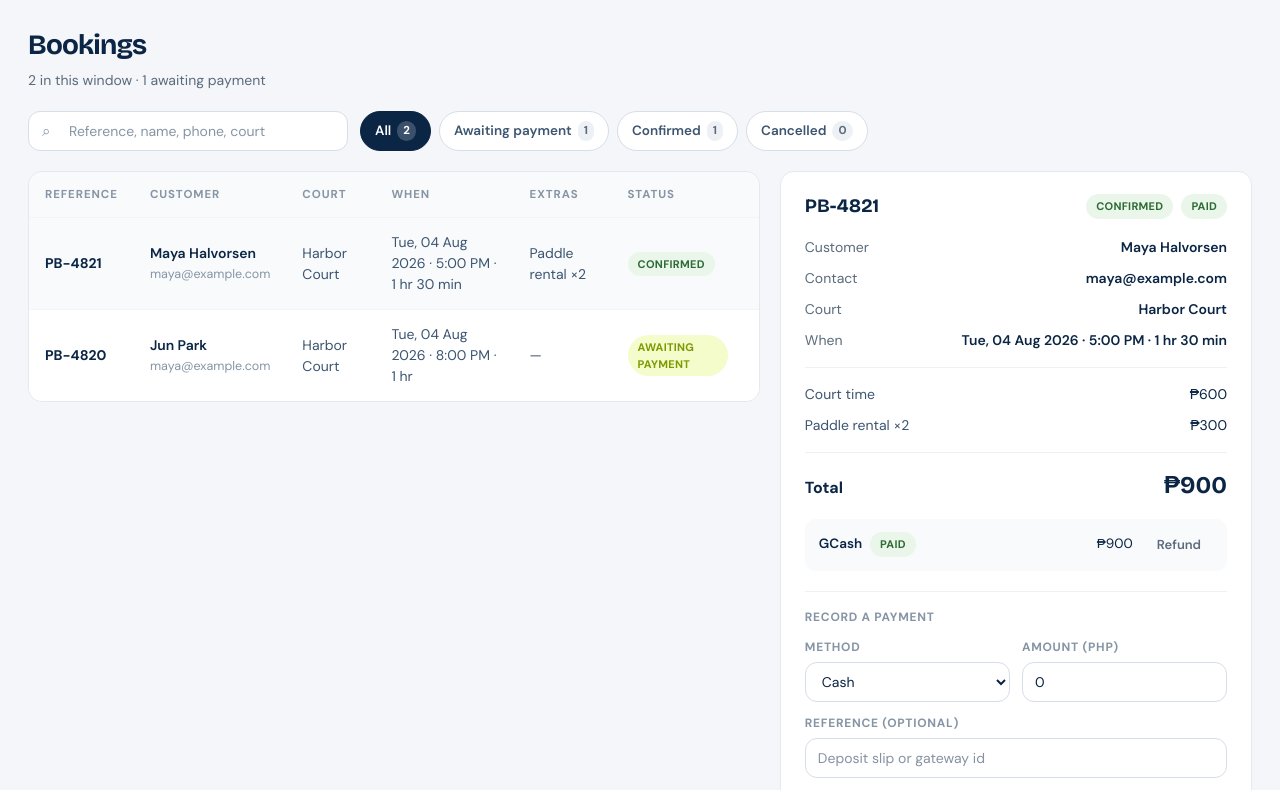
Test: BookingsScreen searching › says nothing matched rather than showing an empty ledger
Type "Nobody" into the search field named "search bookings" at (188, 131), box [28,111,348,151]
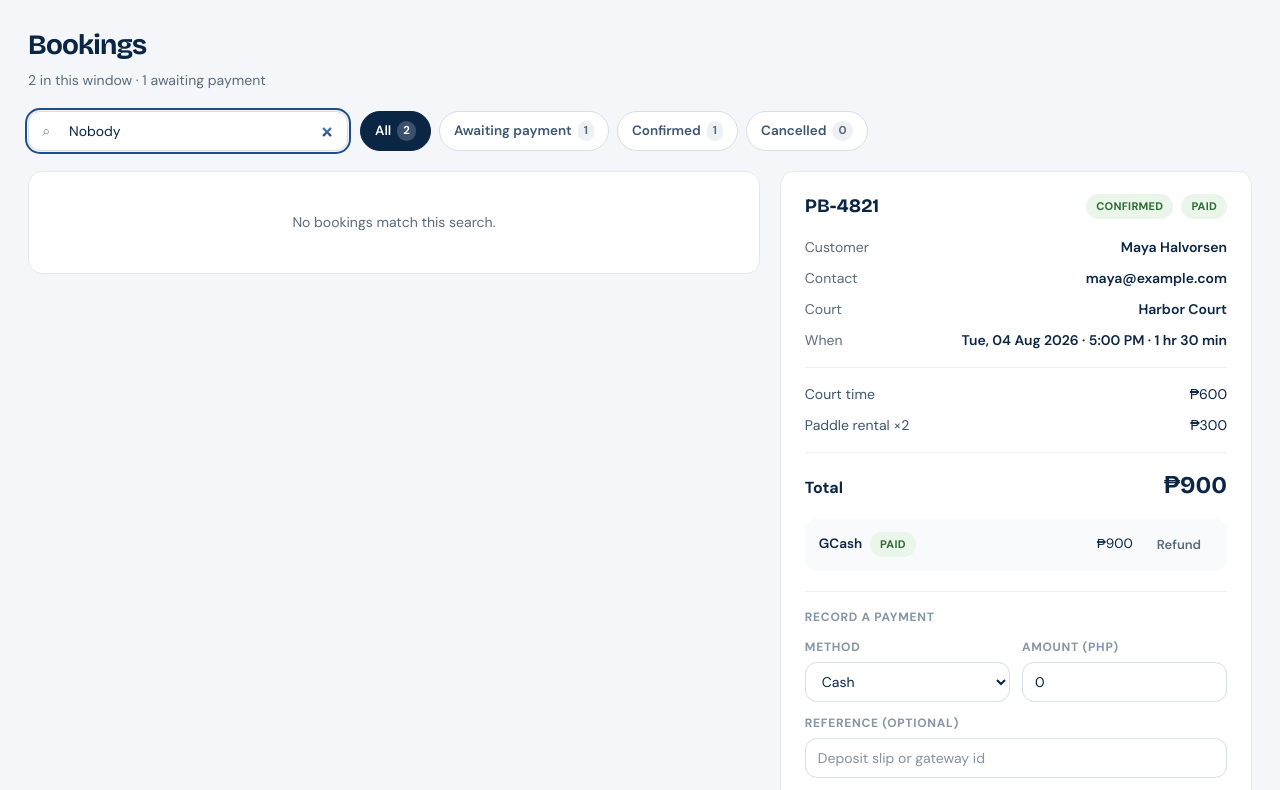
expect the text "No bookings match this search." is shown: met, box [292,213,495,231]
